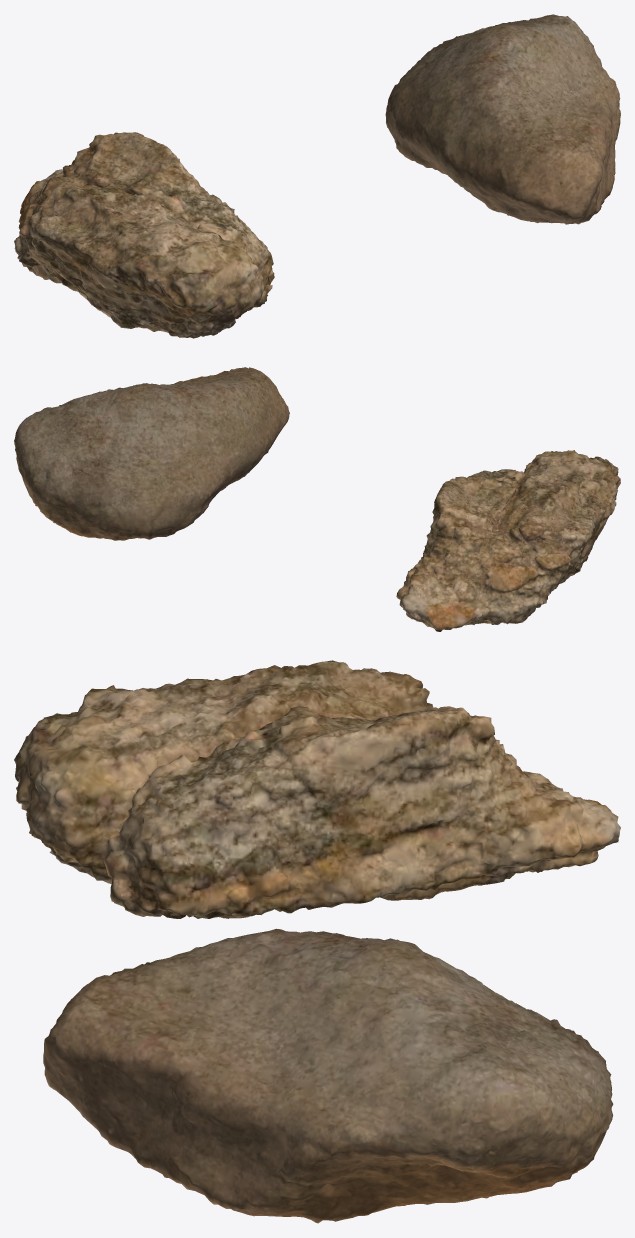
The model's file is rock_cluster_a_low.glb.
The picture shows the model from 3 angles, top to bottom: view 1: azimuth 30°, elevation 25°; view 2: azimuth 150°, elevation 25°; view 3: azimuth 270°, elevation 25°; orthographic projection. The views are drawn at different scales.
Parts seen in each view (by area): view 1: namaqualand_rocks_01_a, namaqualand_rocks_01_b; view 2: namaqualand_rocks_01_a, namaqualand_rocks_01_b; view 3: namaqualand_rocks_01_a, namaqualand_rocks_01_b.
Boxes of the visible parts, x1,y1,x2,y2 form: namaqualand_rocks_01_a: [385, 14, 620, 224]; namaqualand_rocks_01_b: [14, 132, 274, 338]; namaqualand_rocks_01_a: [14, 367, 289, 540]; namaqualand_rocks_01_b: [396, 450, 620, 631]; namaqualand_rocks_01_a: [43, 928, 613, 1223]; namaqualand_rocks_01_b: [14, 660, 620, 918].
Size of the model in its own units: 1.06 by 0.2516 by 0.5866.
1 material, 1 textured.
